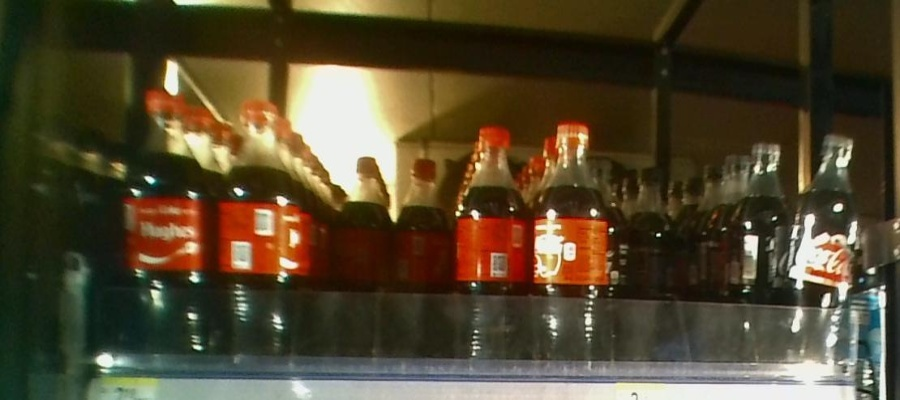bottle: (123, 84, 217, 367), (222, 89, 302, 374), (533, 112, 608, 368), (454, 120, 529, 364), (786, 128, 860, 370), (332, 150, 393, 363), (397, 152, 452, 372), (623, 160, 676, 362)
